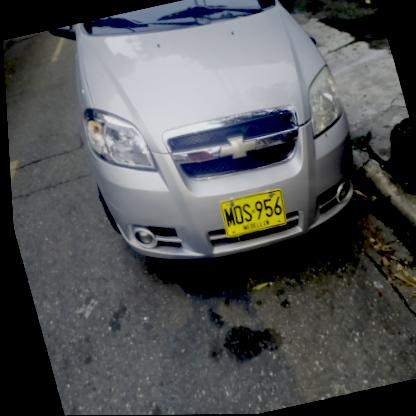placa: (210, 184, 291, 242)
